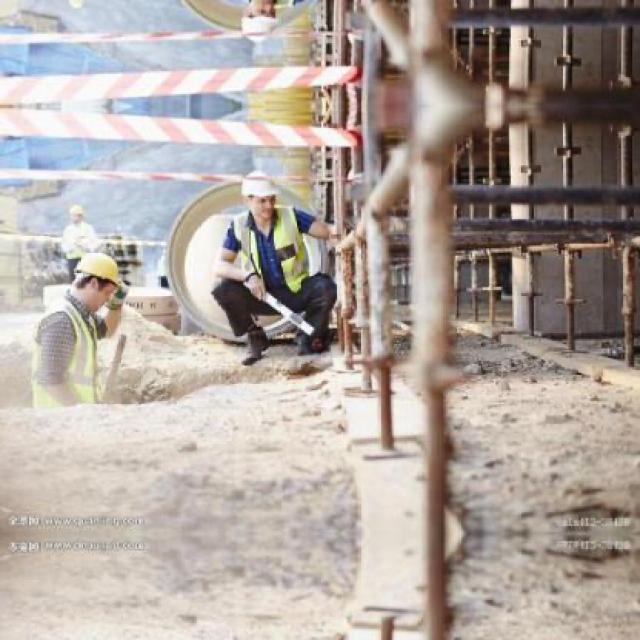reflective_jacket: (15, 301, 118, 415), (213, 207, 326, 307)
safety_helmet: (66, 248, 133, 297), (229, 163, 290, 208), (64, 200, 90, 222)
